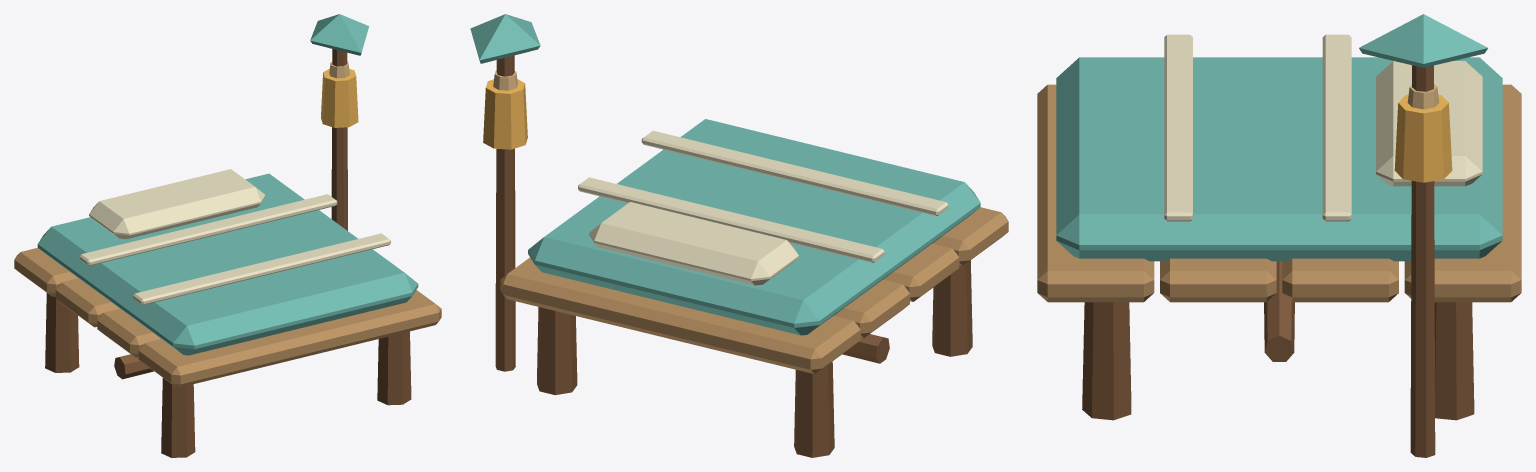
Rendered from CC_AnimalTreatment.fbx.
3 renders of one model, left to right at view 1: azimuth 30°, elevation 25°; view 2: azimuth 150°, elevation 25°; view 3: azimuth 270°, elevation 25°, orthographic. The views are drawn at different scales.
Parts seen in each view (by area): view 1: Leaf mattress.001, Plank.004, Head cushion.001, Restraint strap.001, Restraint strap, Leg.004, Leg.006, Leg.005, Medicine jar.001, Equipment pole.001, Medical marker.001, Plank.006 (+3 smaller); view 2: Leaf mattress.001, Plank.007, Head cushion.001, Restraint strap, Restraint strap.001, Equipment pole.001, Leg.005, Leg.007, Leg.004, Medicine jar.001, Medical marker.001, Plank.004 (+3 smaller); view 3: Leaf mattress.001, Plank.004, Plank.007, Head cushion.001, Equipment pole.001, Restraint strap.001, Leg.006, Restraint strap, Plank.005, Plank.006, Leg.007, Medicine jar.001 (+3 smaller).
Boxes of the visible parts, bbox=[...] form: Leaf mattress.001: bbox=[37, 173, 418, 355]; Plank.004: bbox=[138, 290, 441, 387]; Head cushion.001: bbox=[89, 169, 265, 239]; Restraint strap.001: bbox=[79, 194, 337, 265]; Restraint strap: bbox=[133, 233, 390, 305]; Leg.004: bbox=[161, 378, 195, 457]; Leg.006: bbox=[377, 331, 411, 405]; Leg.005: bbox=[45, 293, 79, 372]; Medicine jar.001: bbox=[321, 69, 358, 127]; Equipment pole.001: bbox=[331, 49, 347, 230]; Medical marker.001: bbox=[310, 14, 368, 55]; Plank.006: bbox=[55, 278, 119, 327]; Leaf mattress.001: bbox=[528, 119, 980, 335]; Plank.007: bbox=[500, 257, 860, 374]; Head cushion.001: bbox=[589, 202, 798, 285]; Restraint strap: bbox=[641, 130, 948, 216]; Restraint strap.001: bbox=[578, 177, 884, 262]; Equipment pole.001: bbox=[495, 55, 515, 371]; Leg.005: bbox=[794, 361, 834, 457]; Leg.007: bbox=[537, 307, 577, 395]; Leg.004: bbox=[932, 260, 972, 356]; Medicine jar.001: bbox=[483, 79, 527, 149]; Medical marker.001: bbox=[470, 14, 540, 63]; Plank.004: bbox=[933, 207, 1008, 265]; Leaf mattress.001: bbox=[1056, 57, 1502, 261]; Plank.004: bbox=[1037, 84, 1154, 302]; Plank.007: bbox=[1404, 84, 1521, 302]; Head cushion.001: bbox=[1376, 61, 1482, 186]; Equipment pole.001: bbox=[1410, 65, 1435, 457]; Restraint strap.001: bbox=[1322, 34, 1351, 221]; Leg.006: bbox=[1082, 302, 1131, 420]; Restraint strap: bbox=[1164, 34, 1192, 221]; Plank.005: bbox=[1160, 258, 1276, 302]; Plank.006: bbox=[1282, 258, 1398, 302]; Leg.007: bbox=[1434, 302, 1474, 420]; Medicine jar.001: bbox=[1394, 94, 1452, 182].
Bounding box in the file's own units: 1.92 × 1.68 × 1.68.
